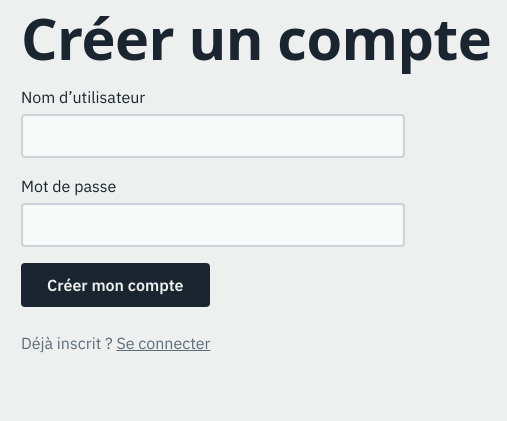
Test case: AuthPage (register) › validates the username and password rules
Type "a b" into the field labelled "Nom d’utilisateur".
click(213, 136); type("a b")  # box [21,114,405,158]
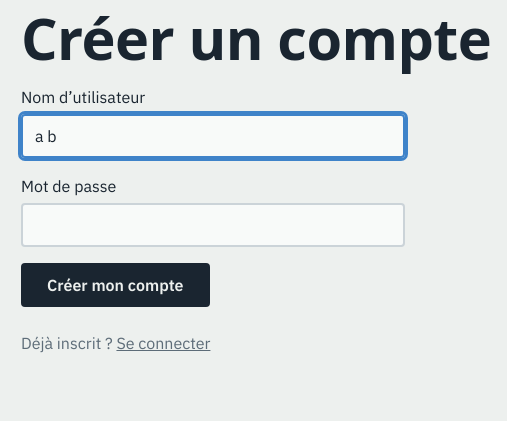
Type "short" into the password field labelled "Mot de passe".
click(213, 225); type("short")  # box [21,203,405,247]
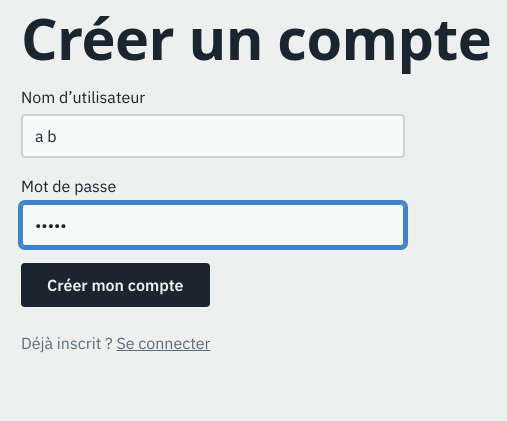
Click the button "Créer mon compte".
click(115, 285)  # box [21,263,210,307]
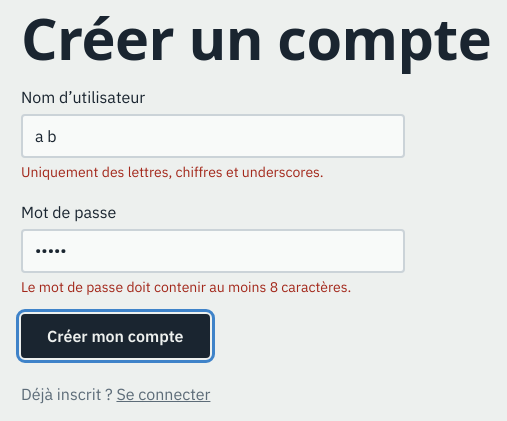
Check: the text "Uniquement des lettres, chiffres et underscores." is shown, box [21,163,324,181]
Check: the text "Le mot de passe doit contenir au moins 8 caractères." is shown, box [21,277,405,298]
